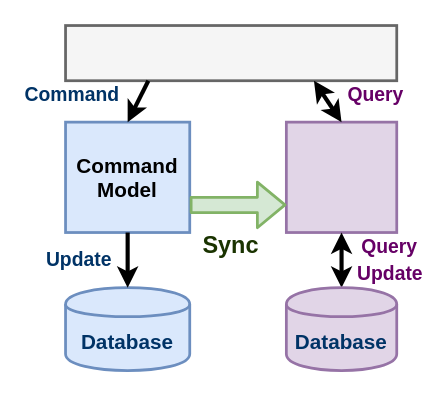
Image size: 447x395. Some labels were removed from this diagram. The centre of each missing label's shape, as x and y in pixels:
Interface: the point at 230,52
Query Model: the point at 340,176
